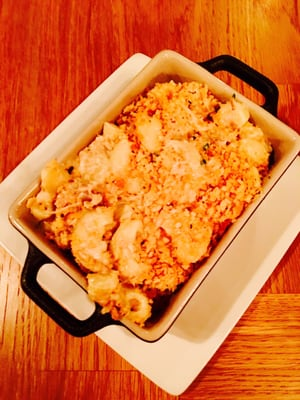curry: (0, 0, 299, 348)
